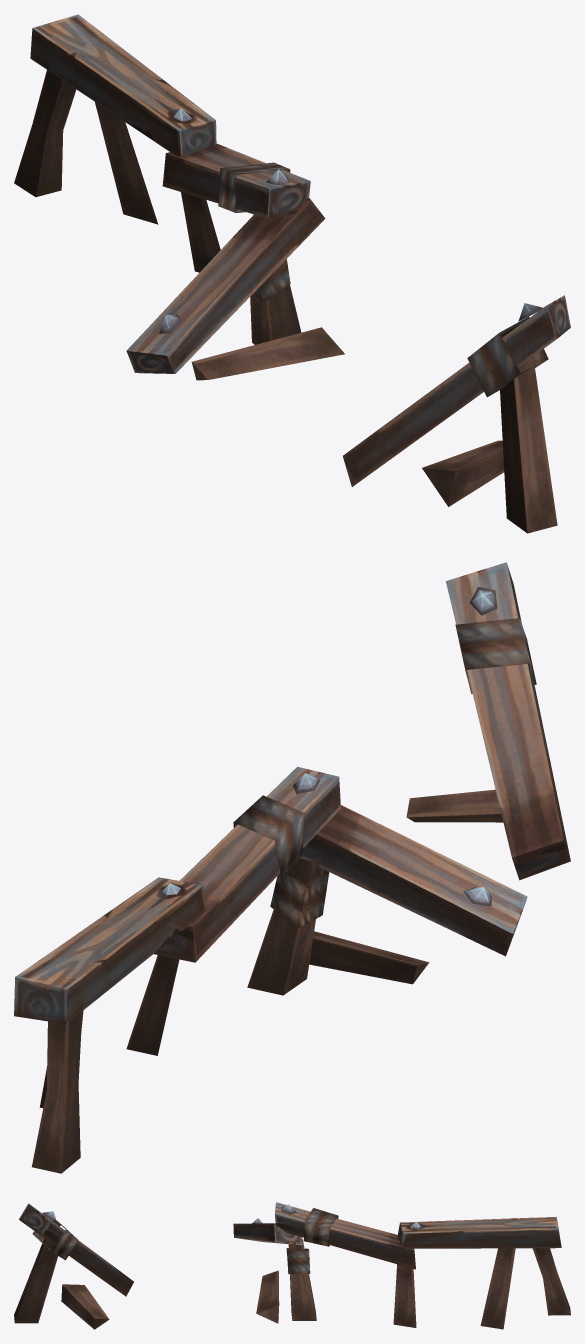
File: mine_railing05.fbx
The picture shows the model from 3 angles, top to bottom: view 1: azimuth 30°, elevation 25°; view 2: azimuth 150°, elevation 25°; view 3: azimuth 270°, elevation 25°; orthographic projection. The views are drawn at different scales.
Visible parts, largest first — view 1: 13_-_Default; view 2: 13_-_Default; view 3: 13_-_Default.
Part boxes in pixels (x1=…): 13_-_Default: x1=14, y1=14, x2=570, y2=533; 13_-_Default: x1=14, y1=562, x2=570, y2=1173; 13_-_Default: x1=14, y1=1202, x2=570, y2=1329.
Size of the model in its own units: 2.44 by 1.97 by 8.24.
